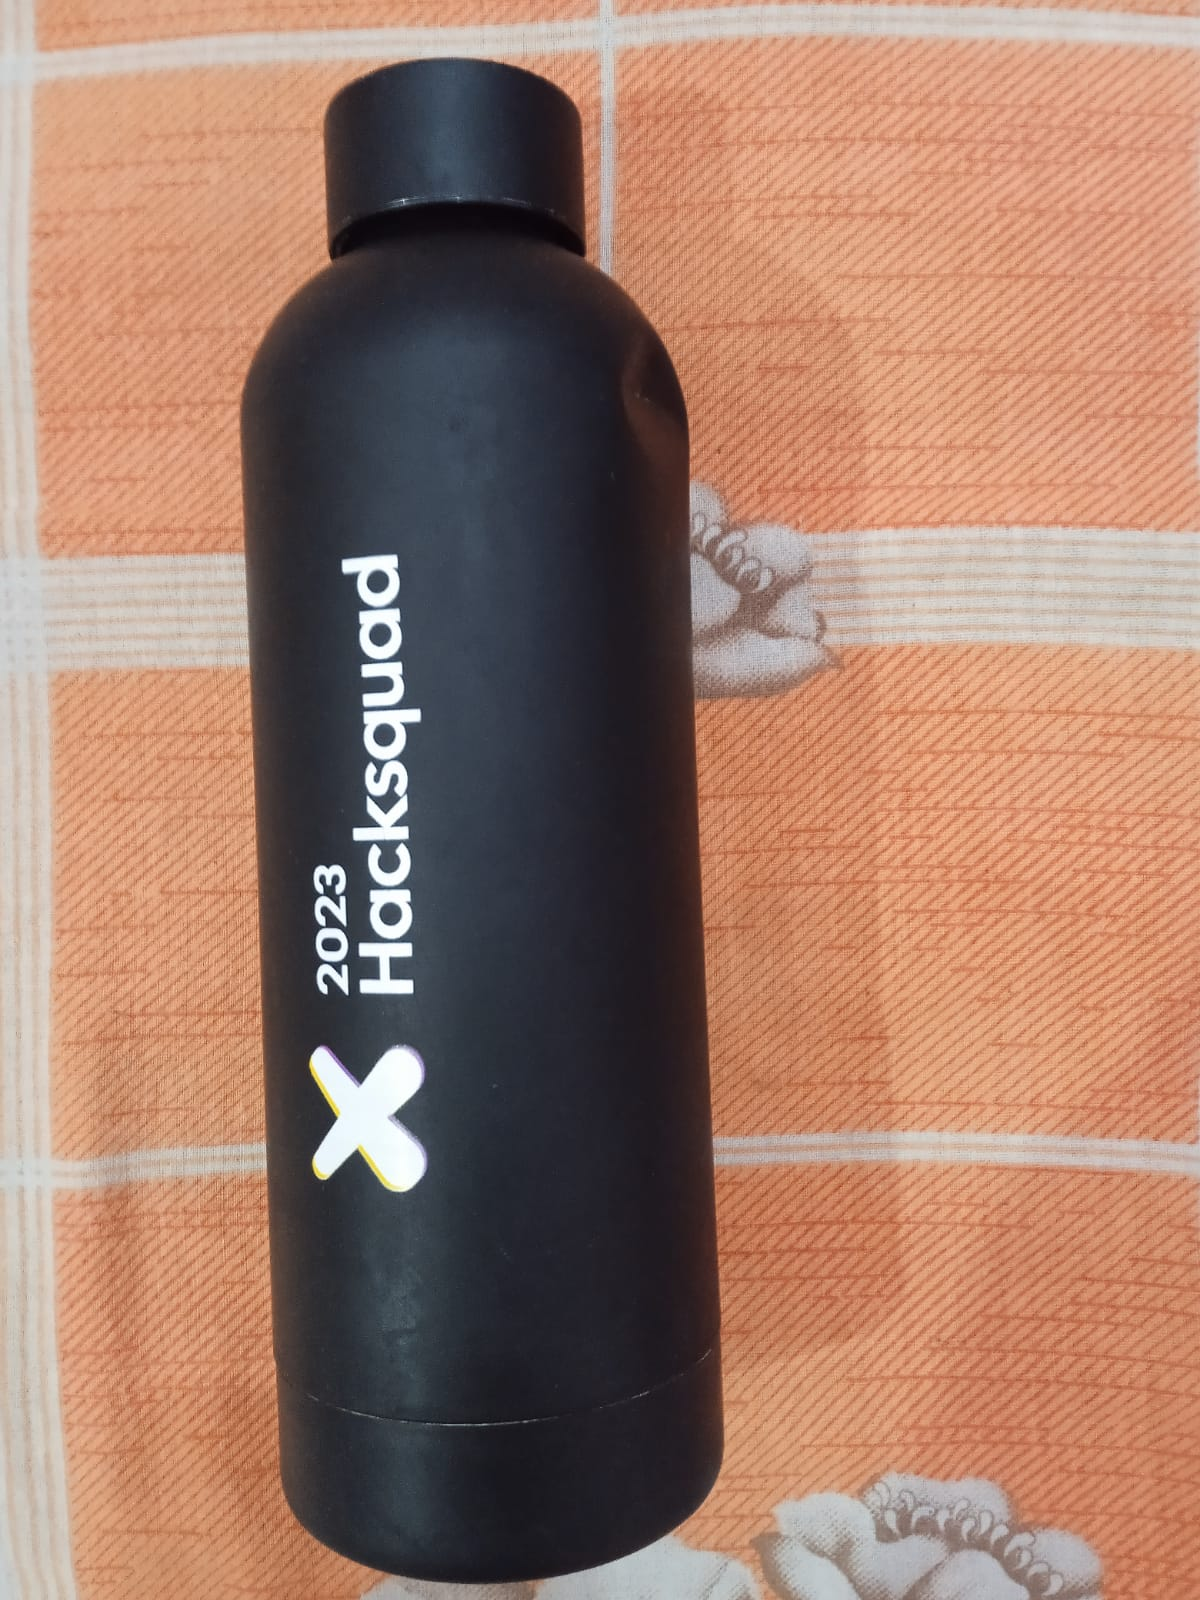bottle: (161, 45, 775, 1584)
